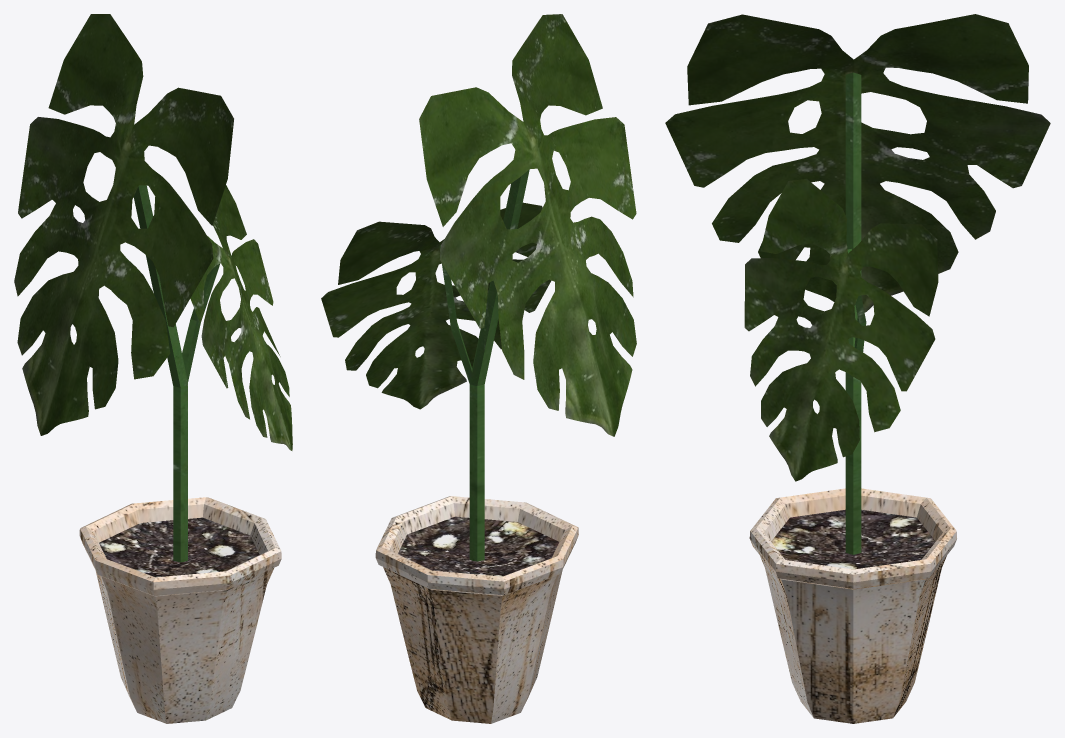
The model's file is monstera.fbx.
The picture shows the model from 3 angles, left to right: view 1: azimuth 30°, elevation 25°; view 2: azimuth 150°, elevation 25°; view 3: azimuth 270°, elevation 25°; orthographic projection. The views are drawn at different scales.
Visible parts, largest first — view 1: Null; view 2: Null; view 3: Null.
Part boxes in pixels (left/top/right/bottom): Null: left=14, top=14, right=292, bottom=723; Null: left=321, top=14, right=636, bottom=723; Null: left=665, top=14, right=1050, bottom=723.
Size of the model in its own units: 210 by 508 by 260.
Materials: 1 (1 with a texture image).
